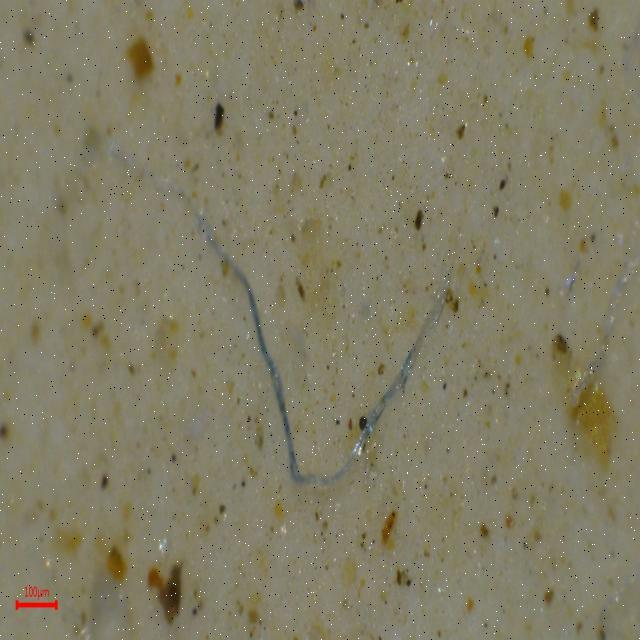Fibre: (204, 215, 452, 500)
